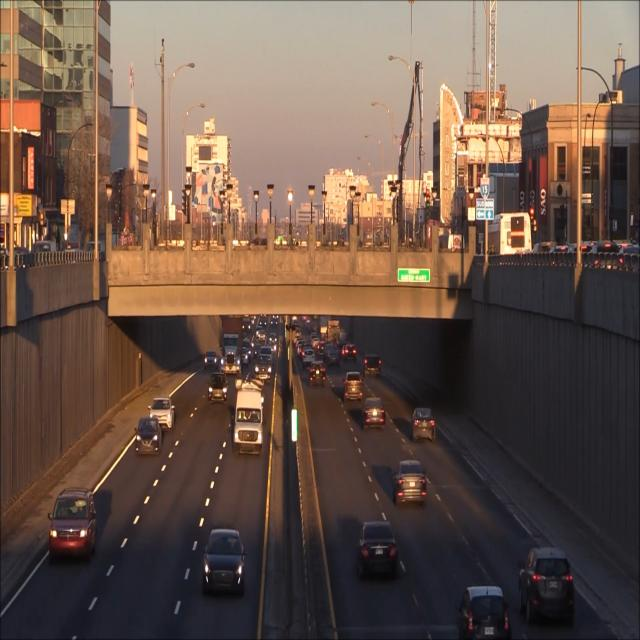Car: (520, 550, 578, 626), (457, 580, 514, 640), (50, 489, 98, 560), (203, 529, 250, 594), (358, 522, 401, 579), (235, 388, 265, 456), (390, 463, 430, 509), (221, 317, 243, 377), (136, 418, 165, 457), (150, 395, 178, 430), (412, 405, 436, 443), (364, 398, 387, 429), (344, 370, 365, 403), (208, 372, 230, 402), (254, 354, 274, 383), (310, 360, 328, 388), (364, 354, 382, 377), (204, 350, 219, 370)
